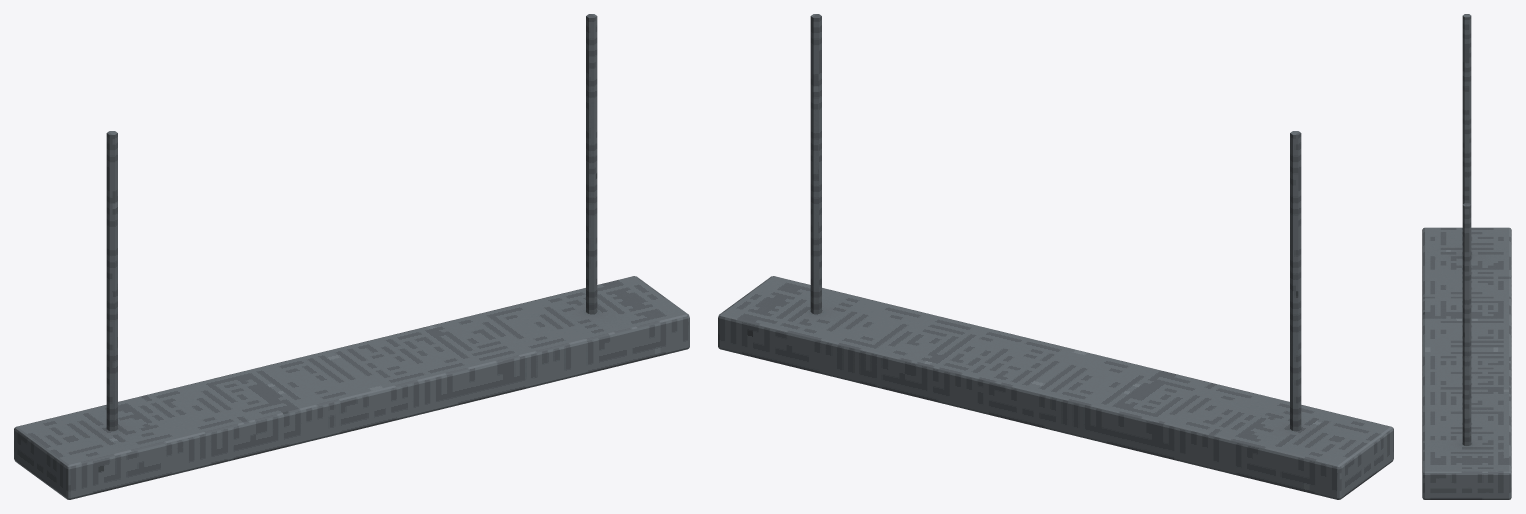
File: base_bench_lamp.glb
The picture shows the model from 3 angles, left to right: view 1: azimuth 30°, elevation 25°; view 2: azimuth 150°, elevation 25°; view 3: azimuth 270°, elevation 25°; orthographic projection. The views are drawn at different scales.
Visible parts, largest first — view 1: base_bench_lamp.001; view 2: base_bench_lamp.001; view 3: base_bench_lamp.001.
Part boxes in pixels (left/top/right/bottom): base_bench_lamp.001: left=14, top=14, right=689, bottom=499; base_bench_lamp.001: left=718, top=14, right=1393, bottom=499; base_bench_lamp.001: left=1422, top=14, right=1511, bottom=499.
Size of the model in its own units: 2.6 by 1.35 by 0.4.
Materials: 2 (2 with a texture image).
